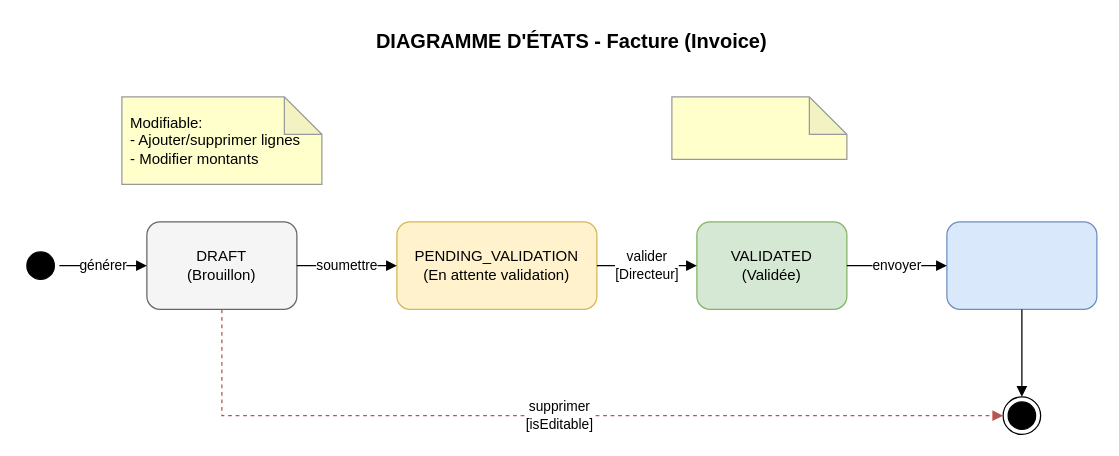
The diagram is 1119 pixels wide and 456 high, and some of its shapes have lost their labels. Each missing label, with the box of its shape:
Non modifiable après validation: (671, 96, 847, 159)
SENT (Envoyée): (946, 221, 1097, 309)
